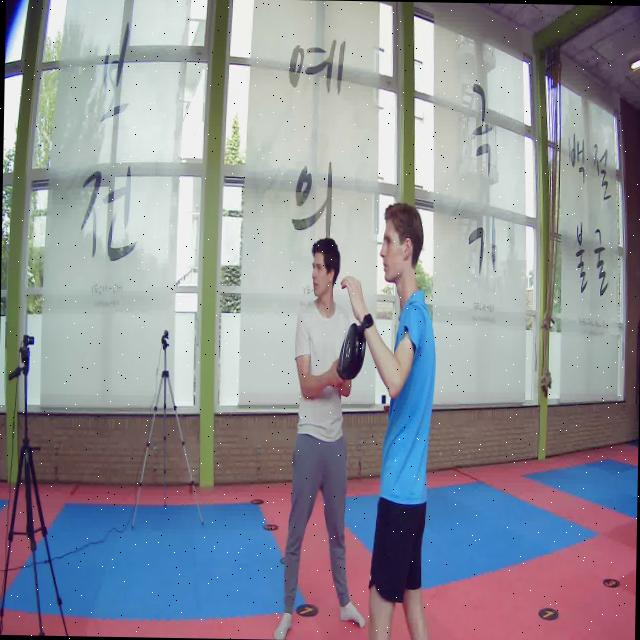paddle: (337, 322, 365, 380)
